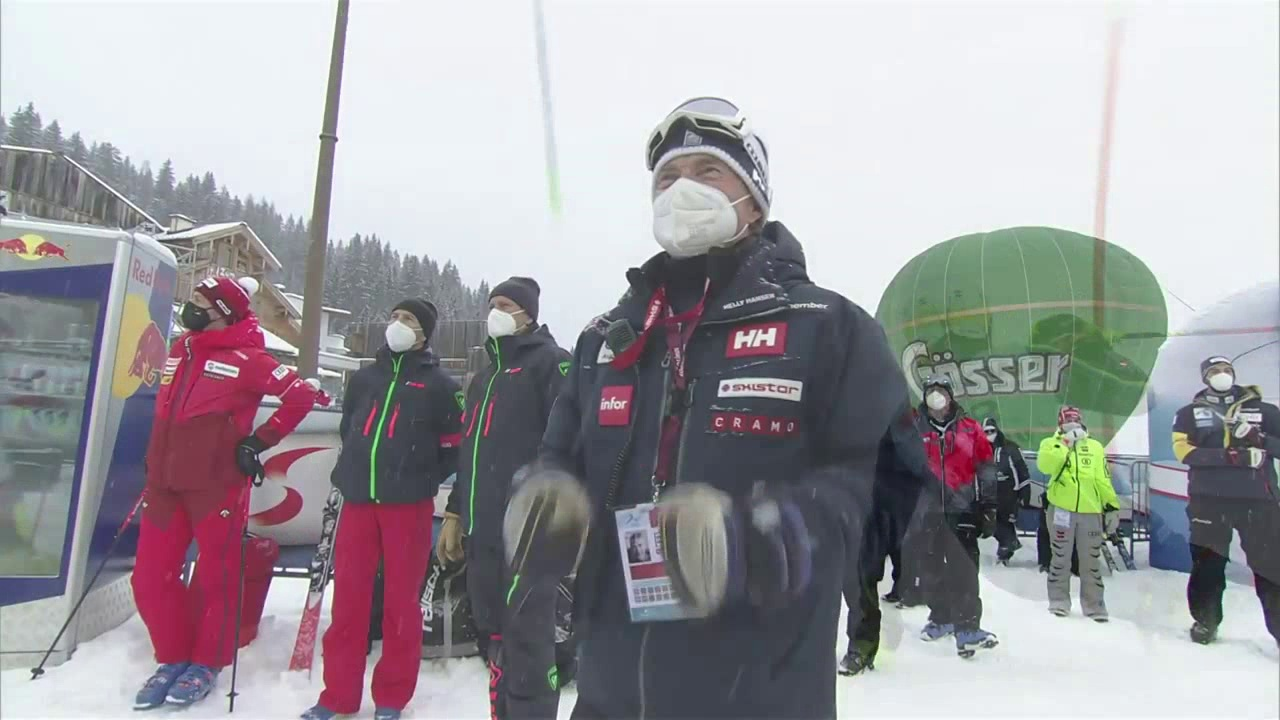a1: (928, 432, 949, 443)
goesser: (909, 344, 1078, 400)
